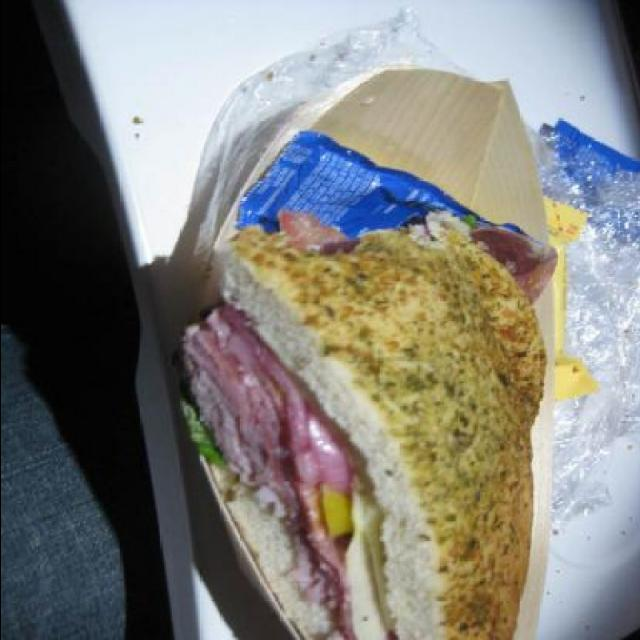Sandwich: (181, 207, 545, 639)
